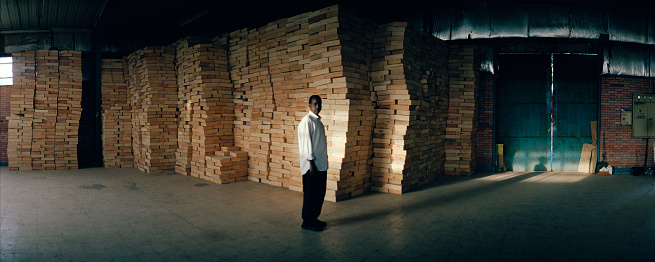em pe: (290, 93, 330, 226)
